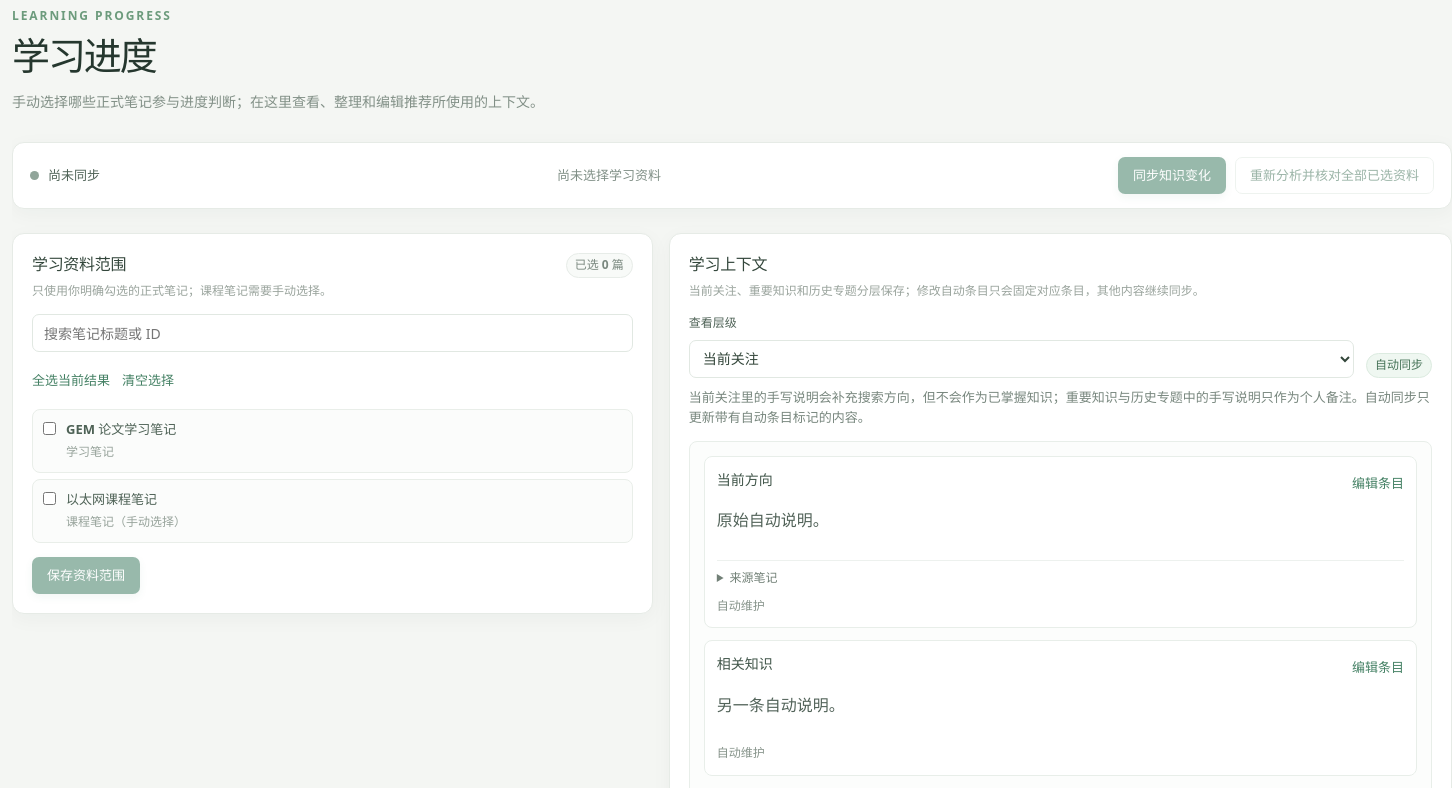
Test: 学习进度上下文 page › shows source note titles separately from automatic knowledge summaries
Check: the text "原始自动说明。" is shown, box [717,509,829,531]
Check: the text "来源笔记" is shown, box [717,560,1404,588]
Click the heading "来源笔记" at (754, 578), box [730,569,778,586]
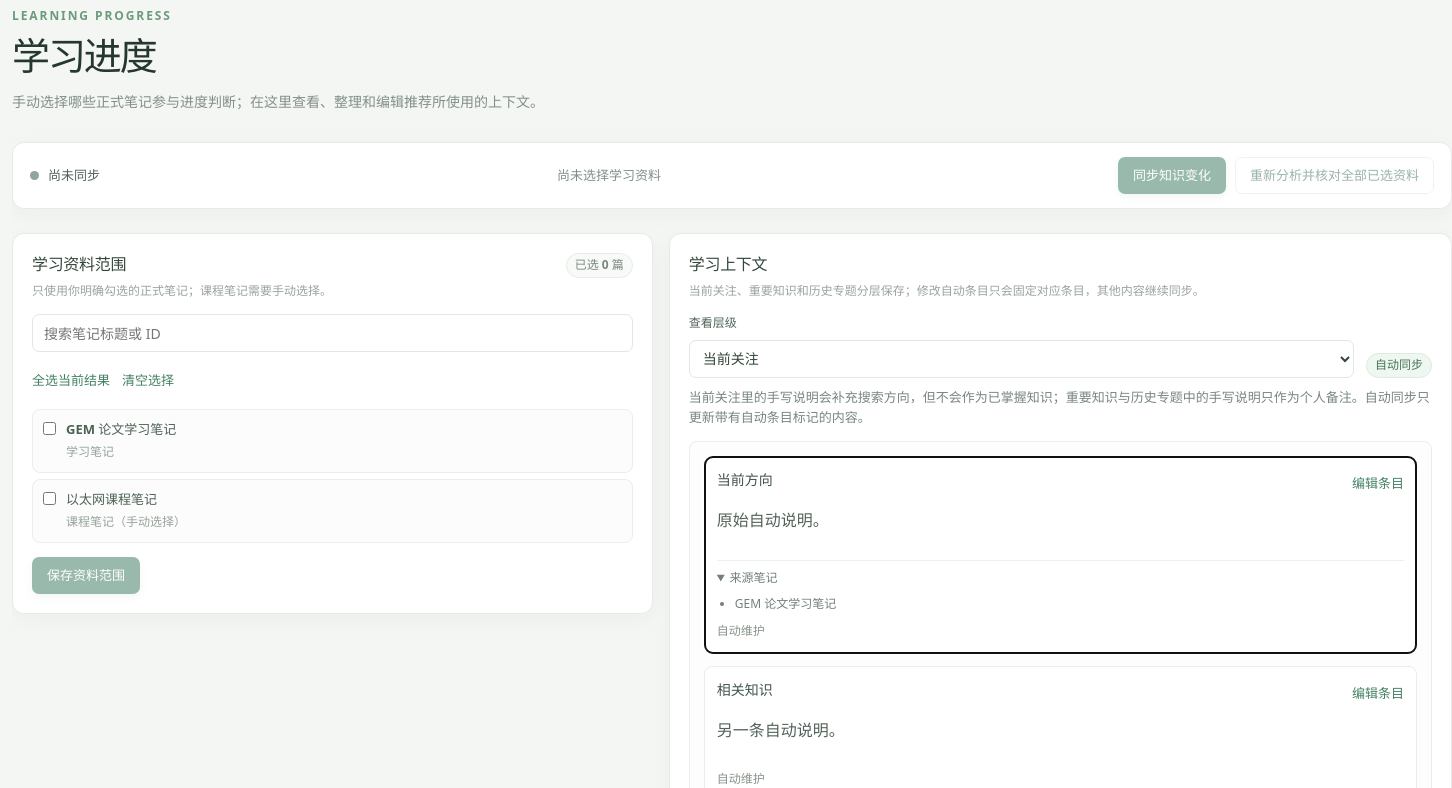
Check: the list item "GEM 论文学习笔记" is shown, box [735,595,836,612]
